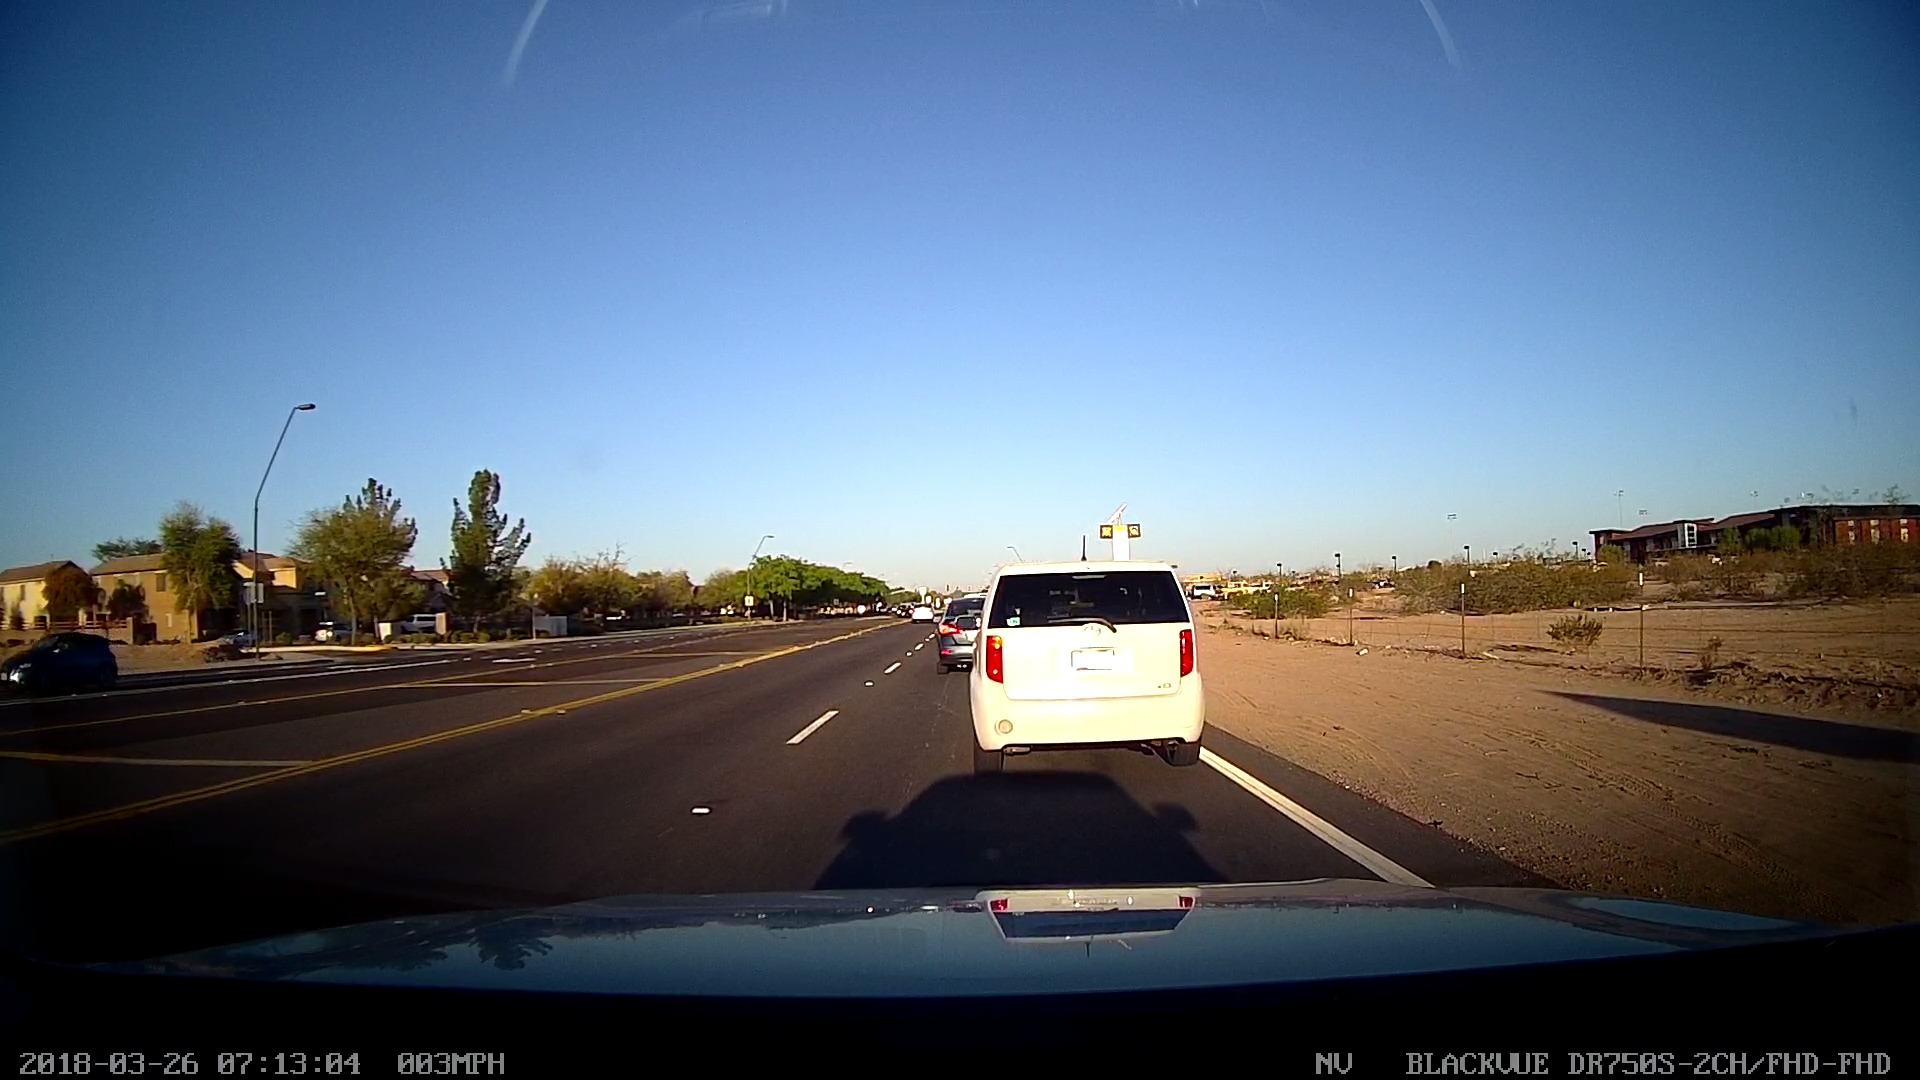plate: (1066, 642, 1129, 680)
vehicle: (964, 551, 1213, 793), (0, 624, 124, 709), (926, 583, 992, 677)
